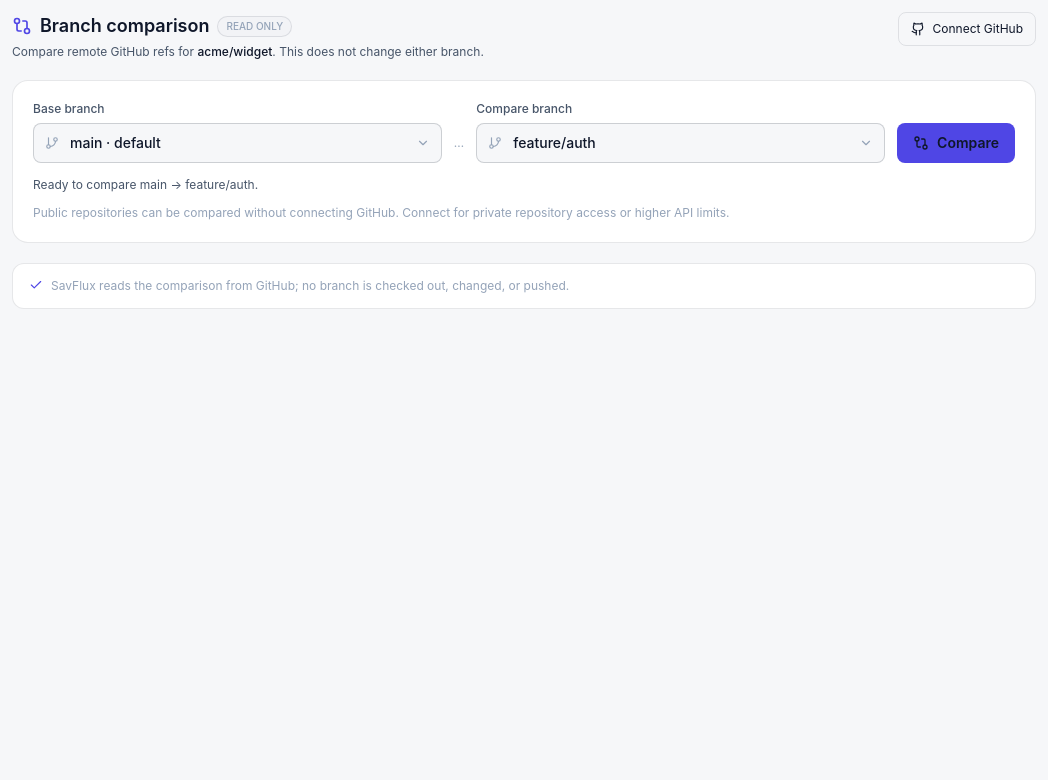
BranchComparePanel › compares the selected remote refs and renders the GitHub diff summary
The image size is (1048, 780).
expect the dropdown labelled "Base branch" shows "main · default": met, box top-left (33, 123), bottom-right (442, 163)
expect the dropdown labelled "Compare branch" shows "feature/auth": met, box top-left (476, 123), bottom-right (885, 163)
Click the button "Compare". click: [956, 143]
box: top-left (897, 123), bottom-right (1015, 163)
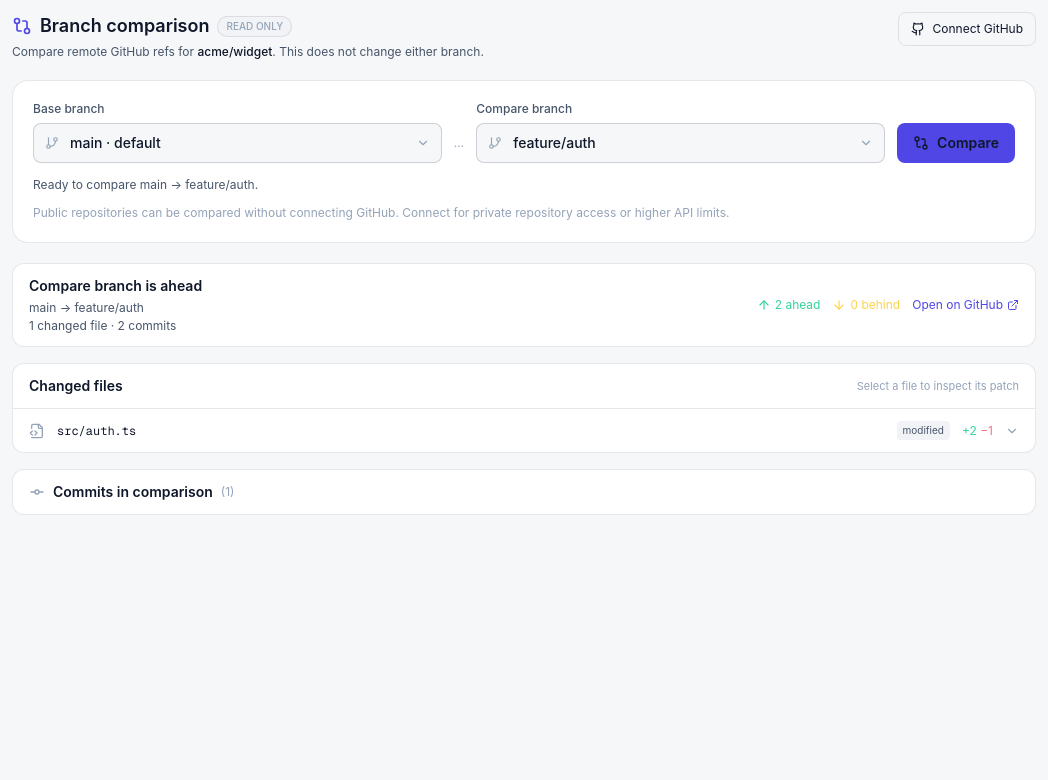
expect the text "Compare branch is ahead" is shown: met, box top-left (29, 276), bottom-right (202, 296)
expect the text "2 ahead" is shown: met, box top-left (757, 297), bottom-right (820, 313)
Click the button "src/auth.ts modified +2 −1". click: [97, 430]
box: top-left (13, 409), bottom-right (1035, 452)
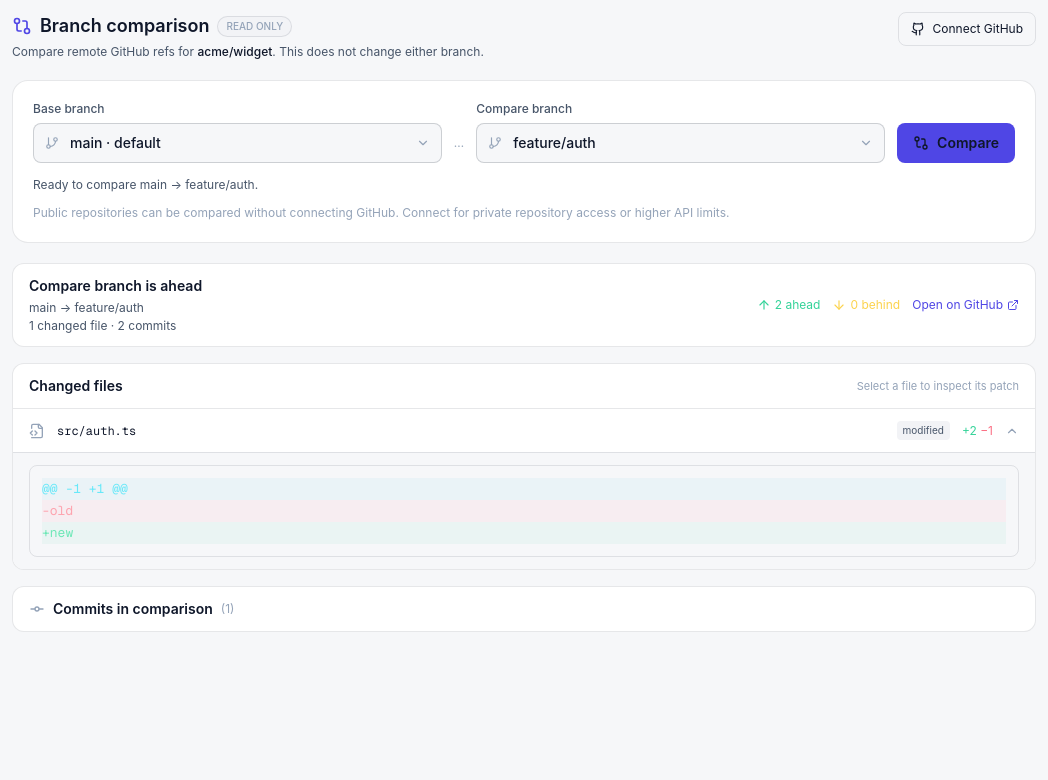
expect the text "+new" is shown: met, box top-left (42, 522), bottom-right (1006, 544)
